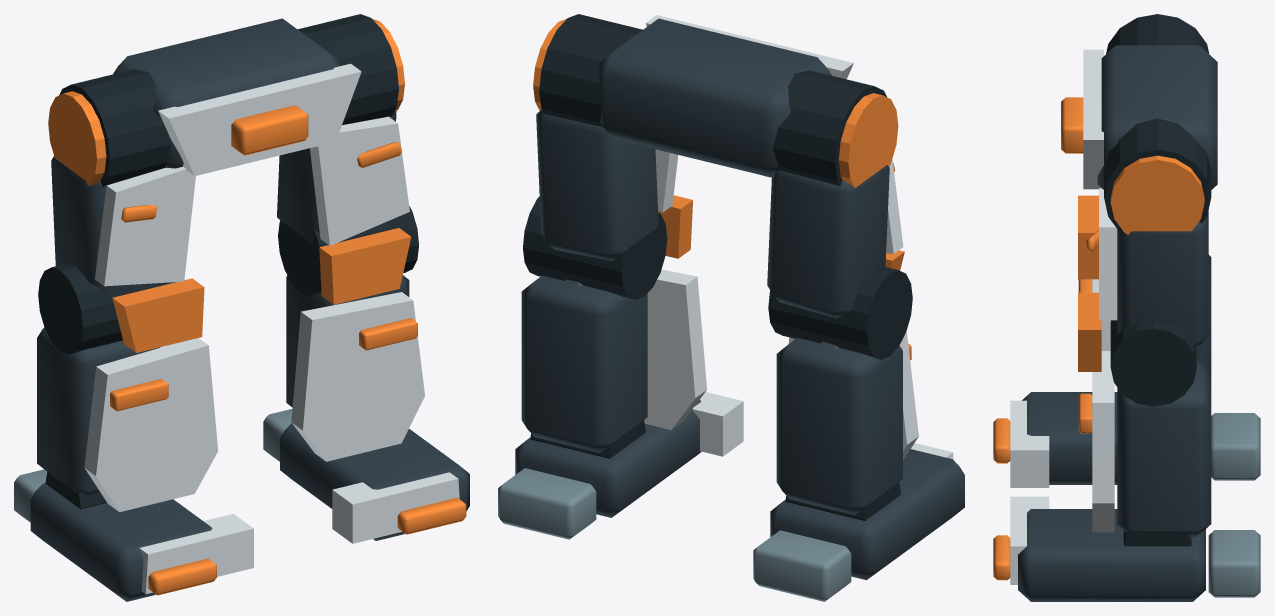
File: striker_legs.glb
3 views of the same model, side by side, from view 1: azimuth 30°, elevation 25°; view 2: azimuth 150°, elevation 25°; view 3: azimuth 270°, elevation 25° (orthographic). The views are drawn at different scales.
Visible parts, largest first — view 1: VISUAL | legs | Striker | ceramic white, VISUAL | legs | Striker | graphite frame, VISUAL | legs | Striker | safety orange, VISUAL | legs | Striker | black rubber, VISUAL | legs | Striker | brushed steel; view 2: VISUAL | legs | Striker | graphite frame, VISUAL | legs | Striker | black rubber, VISUAL | legs | Striker | ceramic white, VISUAL | legs | Striker | brushed steel, VISUAL | legs | Striker | safety orange; view 3: VISUAL | legs | Striker | graphite frame, VISUAL | legs | Striker | black rubber, VISUAL | legs | Striker | safety orange, VISUAL | legs | Striker | ceramic white, VISUAL | legs | Striker | brushed steel.
Part boxes in pixels (bbox=[...]): VISUAL | legs | Striker | ceramic white: bbox=[84, 63, 459, 594]; VISUAL | legs | Striker | graphite frame: bbox=[30, 18, 469, 601]; VISUAL | legs | Striker | safety orange: bbox=[48, 18, 466, 595]; VISUAL | legs | Striker | black rubber: bbox=[38, 14, 418, 509]; VISUAL | legs | Striker | brushed steel: bbox=[14, 409, 292, 522]; VISUAL | legs | Striker | graphite frame: bbox=[515, 18, 964, 580]; VISUAL | legs | Striker | black rubber: bbox=[523, 14, 912, 520]; VISUAL | legs | Striker | ceramic white: bbox=[644, 15, 953, 460]; VISUAL | legs | Striker | brushed steel: bbox=[498, 279, 851, 601]; VISUAL | legs | Striker | safety orange: bbox=[533, 19, 911, 360]; VISUAL | legs | Striker | graphite frame: bbox=[1018, 45, 1217, 601]; VISUAL | legs | Striker | black rubber: bbox=[1104, 14, 1211, 546]; VISUAL | legs | Striker | safety orange: bbox=[993, 97, 1204, 580]; VISUAL | legs | Striker | ceramic white: bbox=[1010, 49, 1117, 584]; VISUAL | legs | Striker | brushed steel: bbox=[1208, 413, 1260, 597].
Size of the model in its own units: 1.51 by 1.87 by 1.02.
